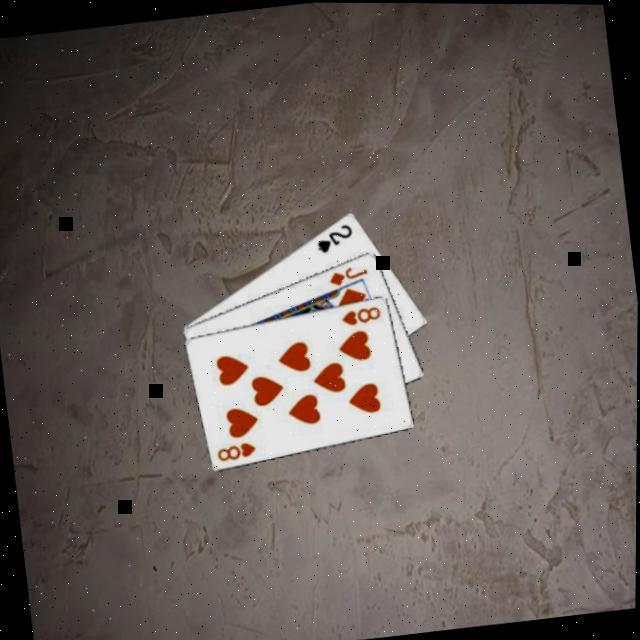2S: (314, 220, 358, 256)
8H: (214, 437, 260, 464), (339, 302, 386, 328)
JD: (325, 261, 372, 289)
